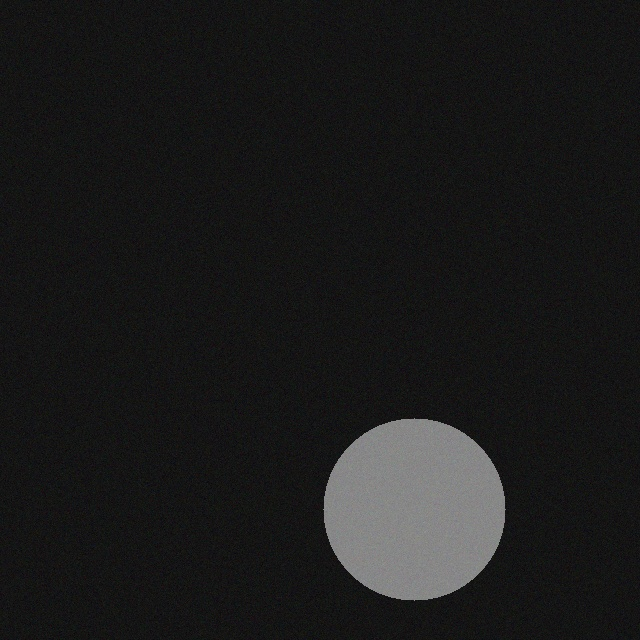circle: (323, 424, 505, 606)
